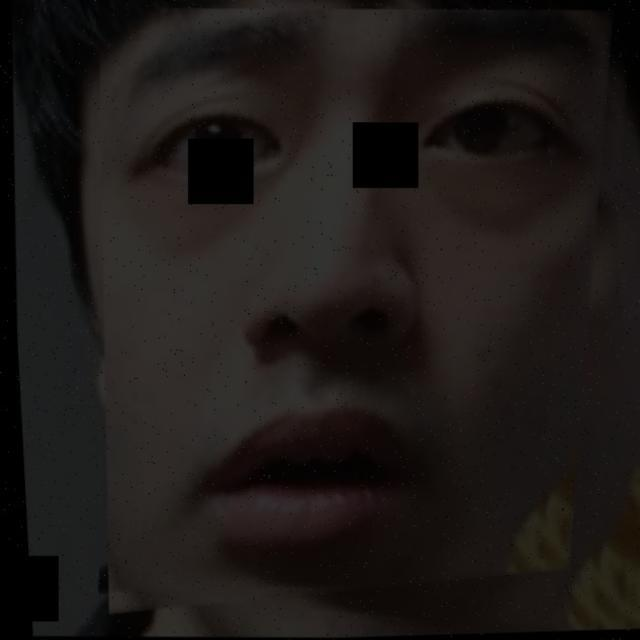Surprised: (83, 20, 640, 616)
